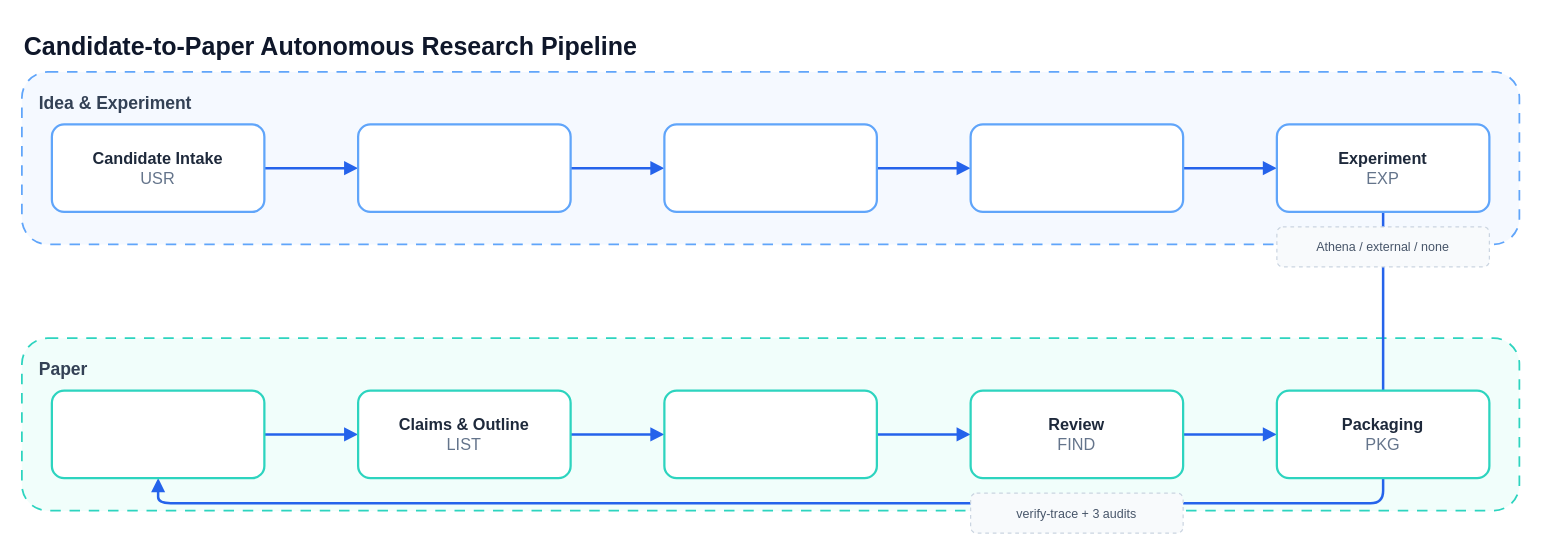
Image size: 1543x555. Some labels were removed from this diagram. Each missing label, with the box of its shape:
Brainstorm IDEA: (356, 123, 571, 212)
Evidence DB: (50, 389, 265, 479)
Experiment Plan PLAN: (969, 123, 1184, 212)
Ideation IDEA: (663, 123, 877, 212)
Writing DOC: (663, 389, 877, 479)
